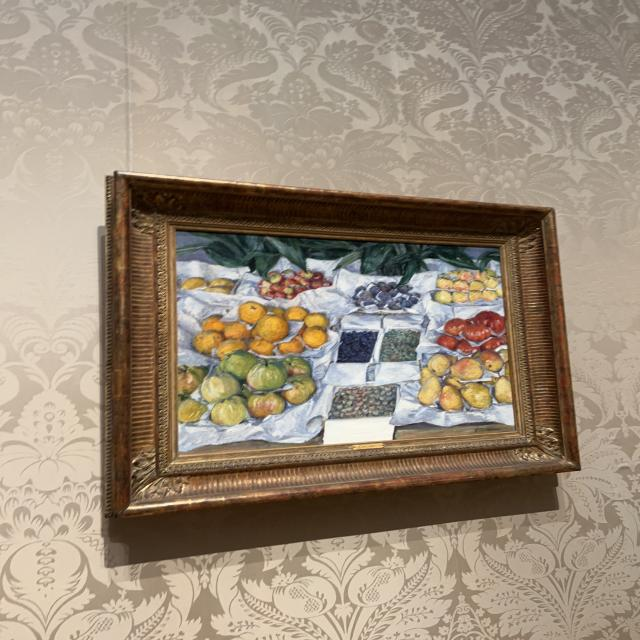fruits: (178, 233, 512, 449)
